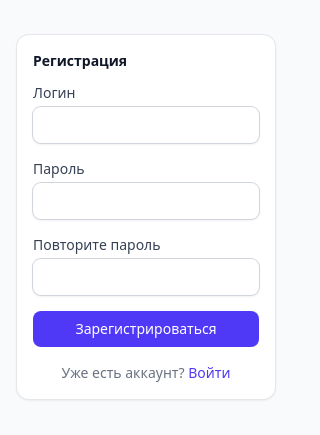
RegisterPage › shows an error when passwords do not match
This screenshot has width=320, height=435.
Type "alice" into the field labelled "Логин" at (146, 125), box x1=33 y1=107 x2=259 y2=143
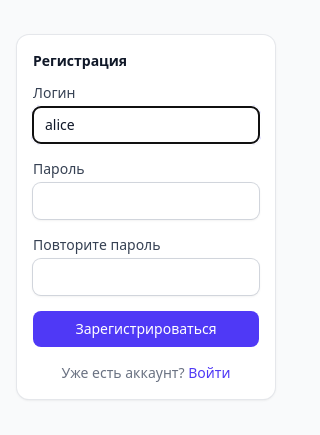
Type "password123" into the password field labelled "Пароль" at (146, 201), box x1=33 y1=183 x2=259 y2=219
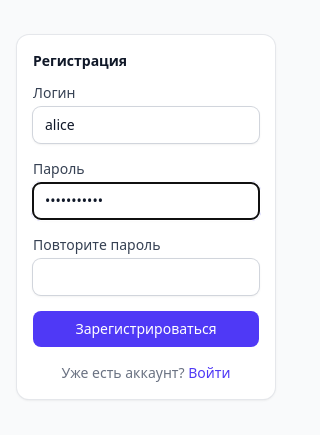
Type "password124" into the password field labelled "Повторите пароль" at (146, 277), box x1=33 y1=259 x2=259 y2=295
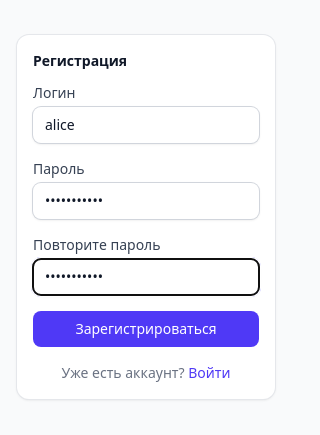
Click the button "Зарегистрироваться" at (146, 329), box x1=33 y1=311 x2=259 y2=347
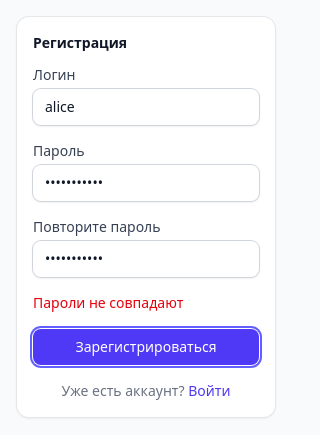
Expected: the text "Пароли не совпадают" is shown, x1=33 y1=293 x2=183 y2=312
